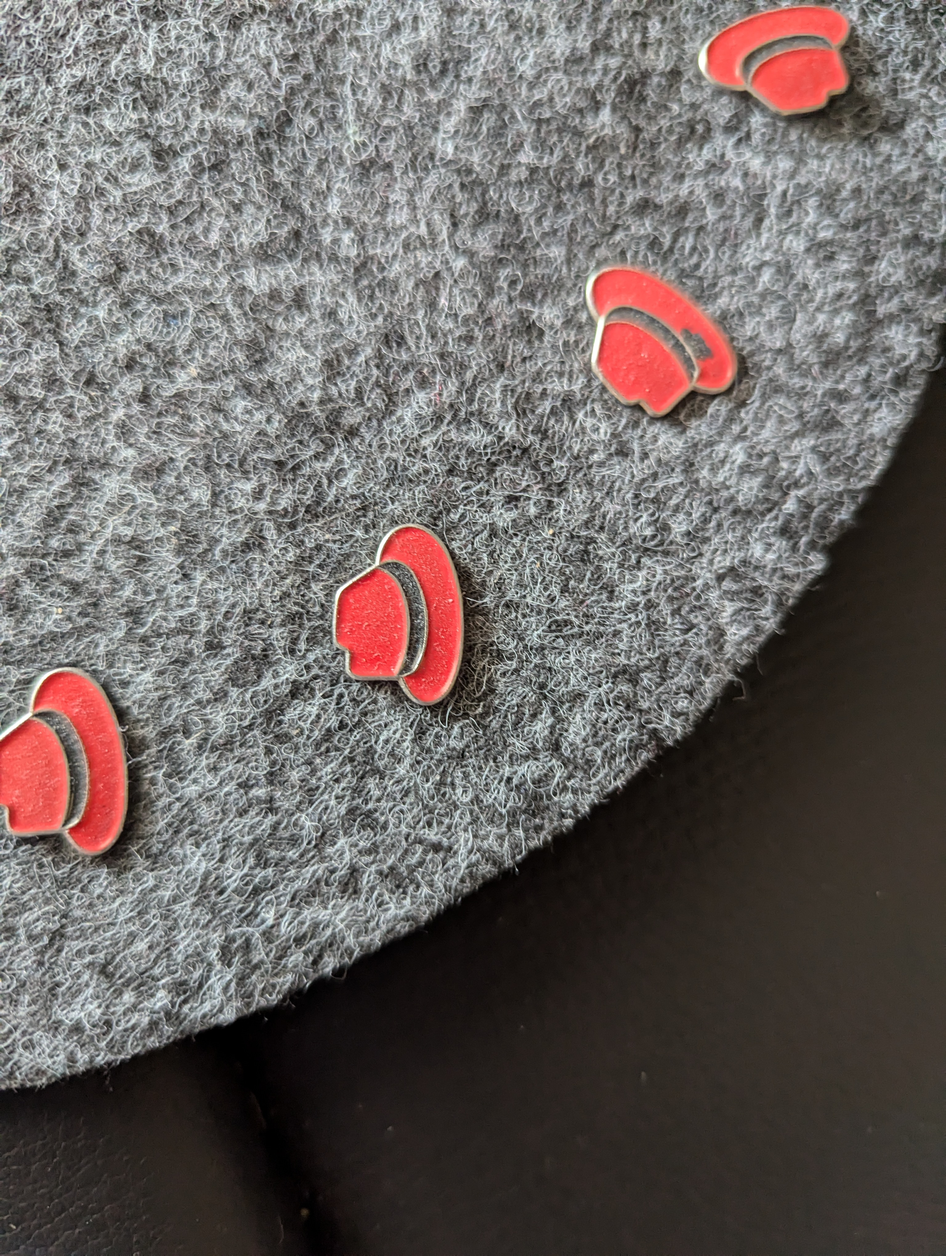Red-Hat: (319, 496, 497, 730), (0, 639, 162, 891), (562, 248, 749, 434), (689, 0, 881, 124)
Scratch: (668, 310, 724, 371)
